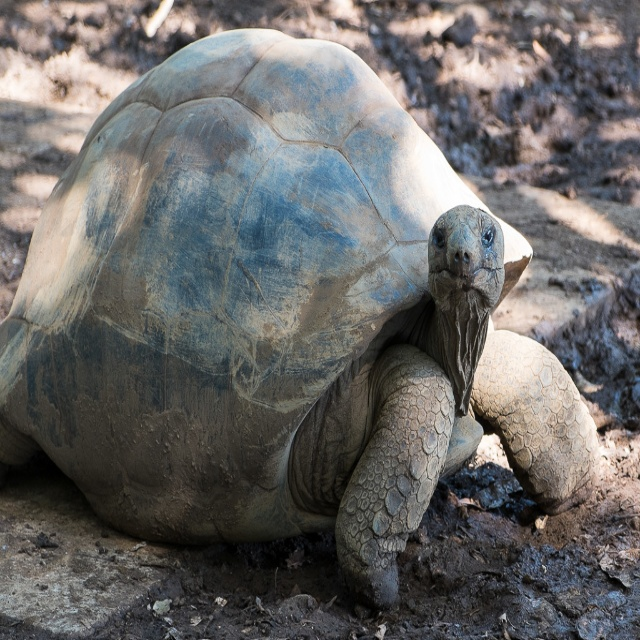Sea turtle: (0, 24, 608, 614)
